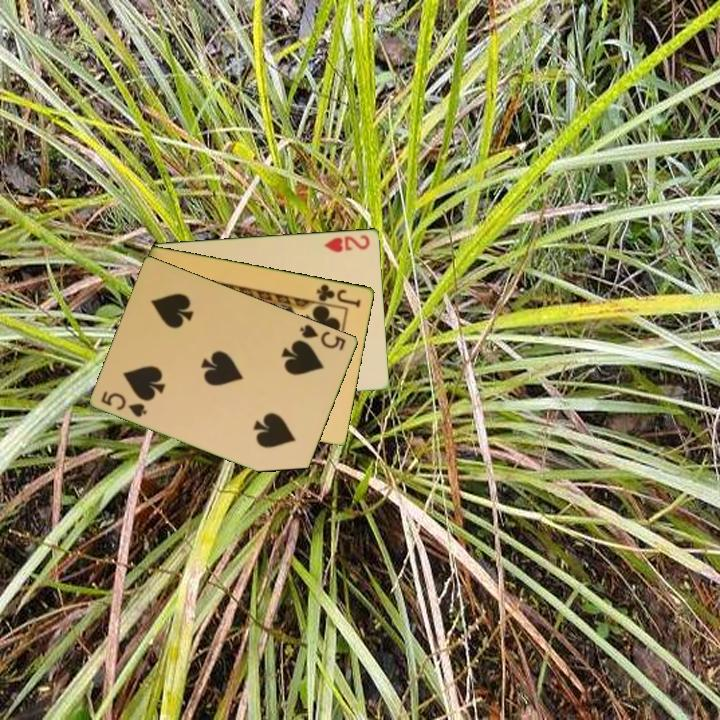2h: (320, 231, 373, 255)
5s: (296, 320, 349, 353), (98, 387, 151, 420)
Jc: (313, 280, 364, 310)
